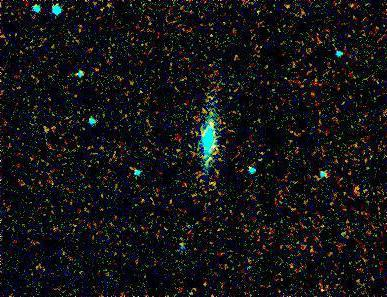star: (197, 112, 227, 142)
